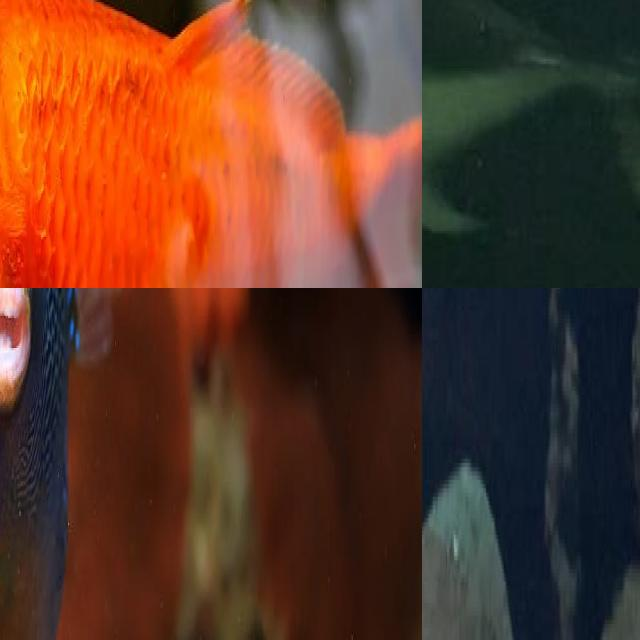fish: (0, 0, 422, 288), (0, 288, 163, 640)
